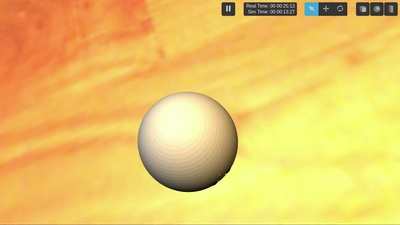mira_robot: (138, 92, 238, 192)
